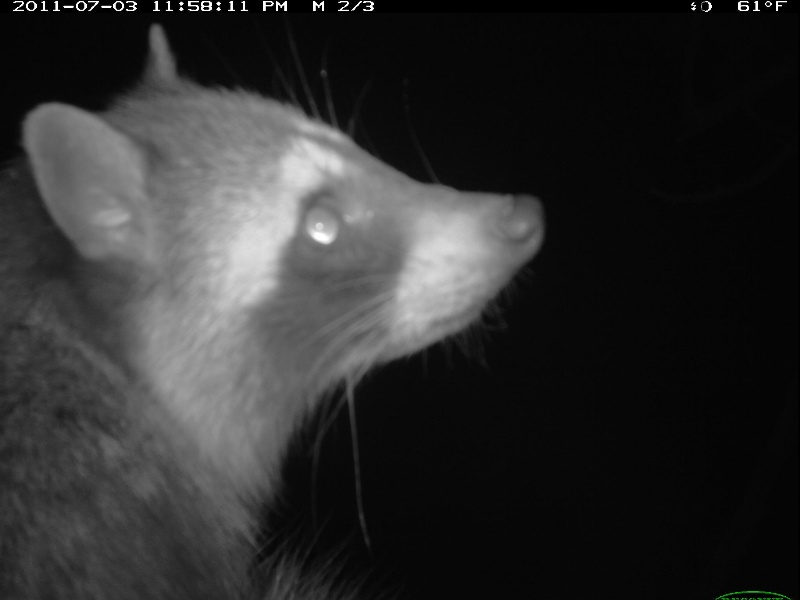raccoon: (12, 23, 572, 593)
